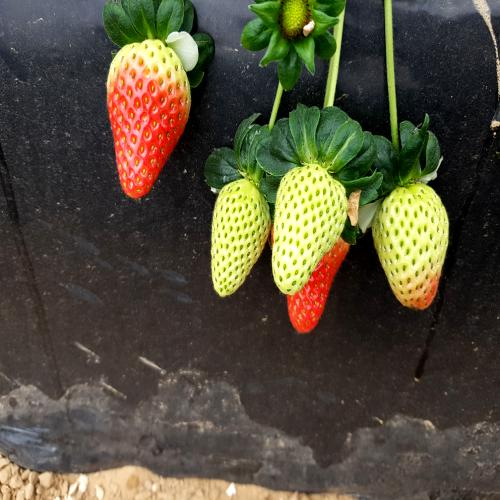partially-ripe: (104, 41, 194, 207)
unripe: (272, 155, 346, 302), (207, 180, 272, 304)
